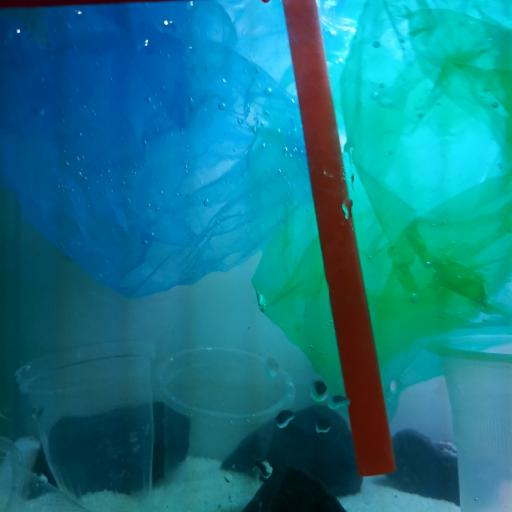plastic_bag: (252, 0, 512, 393), (3, 0, 305, 298)
plastic_cup: (12, 337, 156, 512), (154, 344, 296, 511), (421, 329, 512, 512), (0, 434, 89, 512)
plastic_straw: (283, 0, 395, 477)
